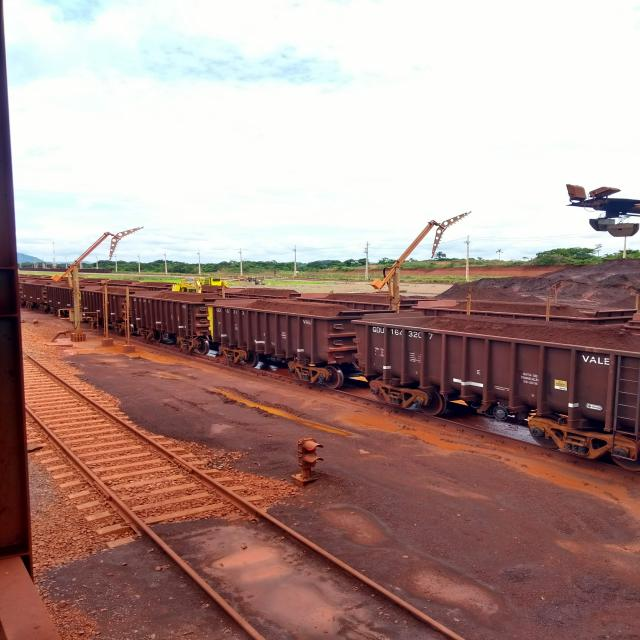gondola: (350, 300, 640, 472), (208, 287, 356, 393), (409, 296, 640, 327), (125, 286, 211, 357), (76, 277, 130, 336), (294, 290, 430, 311), (46, 279, 76, 320), (20, 276, 49, 312)
